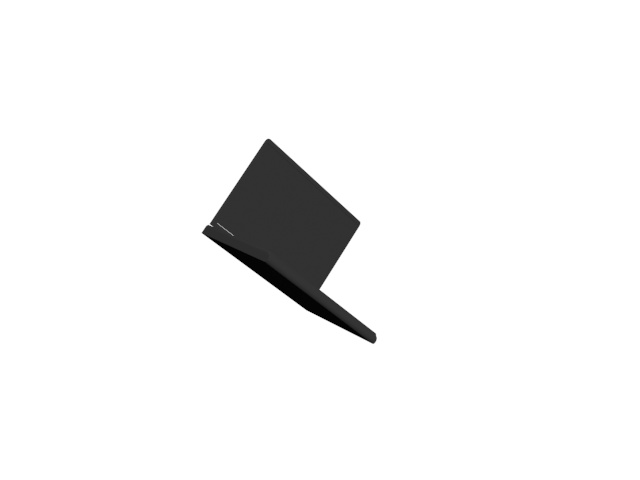laptop_computer: (201, 137, 384, 352)
